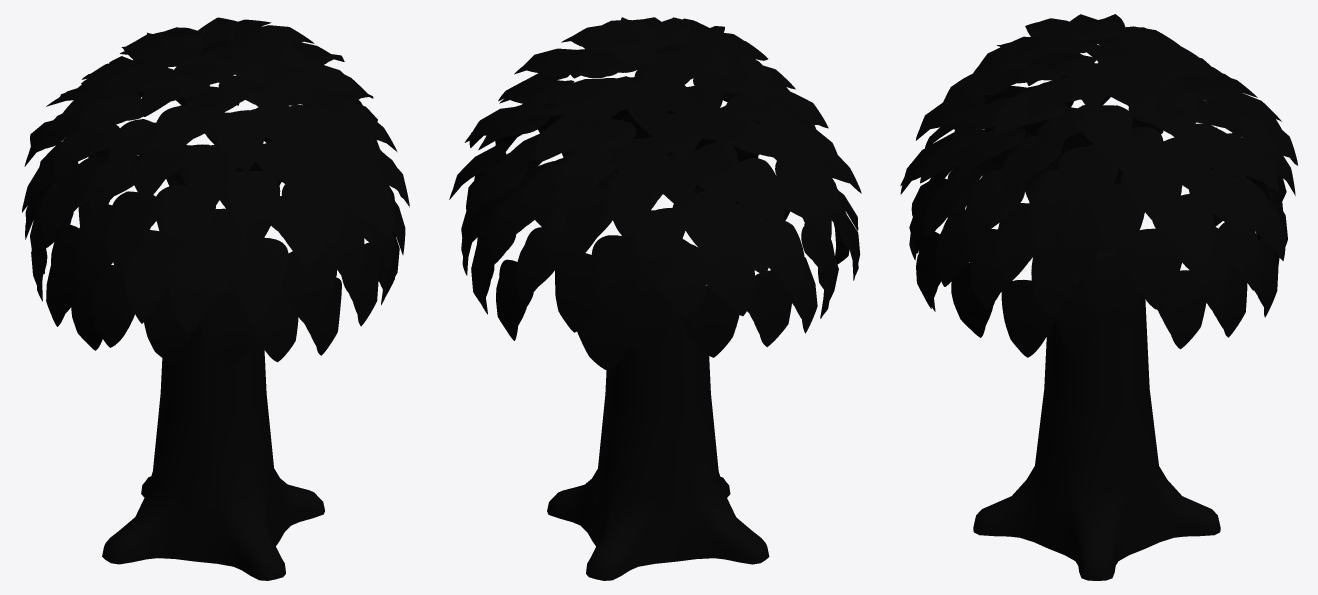
The model's file is Tree_2a.fbx.
3 views of the same model, side by side, from view 1: azimuth 30°, elevation 25°; view 2: azimuth 150°, elevation 25°; view 3: azimuth 270°, elevation 25° (orthographic).
Parts seen in each view (by area): view 1: Tree_2a; view 2: Tree_2a; view 3: Tree_2a.
Part boxes in pixels (x1,y1,x2,y2): Tree_2a: (22,17,409,580); Tree_2a: (449,17,861,580); Tree_2a: (900,14,1297,580).
Bounding box in the file's own units: 61.02 × 82.74 × 61.16.
Materials: 1 (1 with a texture image).
